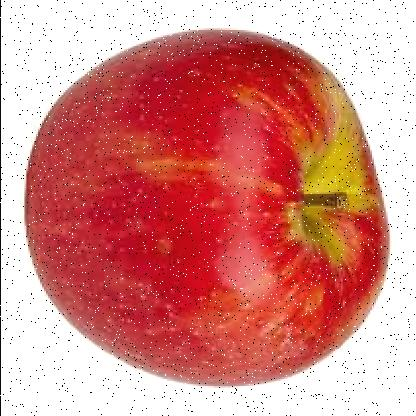apple: (25, 26, 383, 380)
